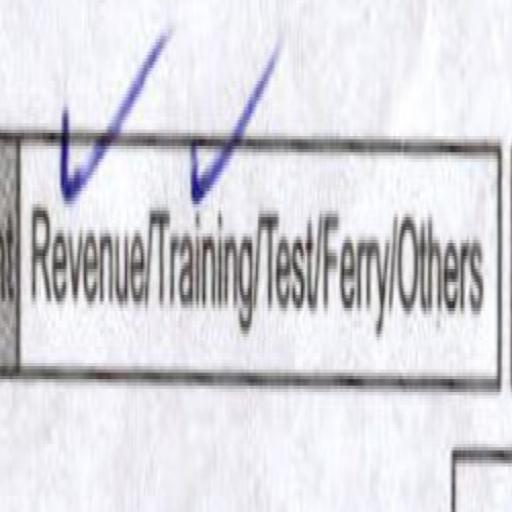check: (30, 28, 145, 428), (148, 45, 254, 388)
